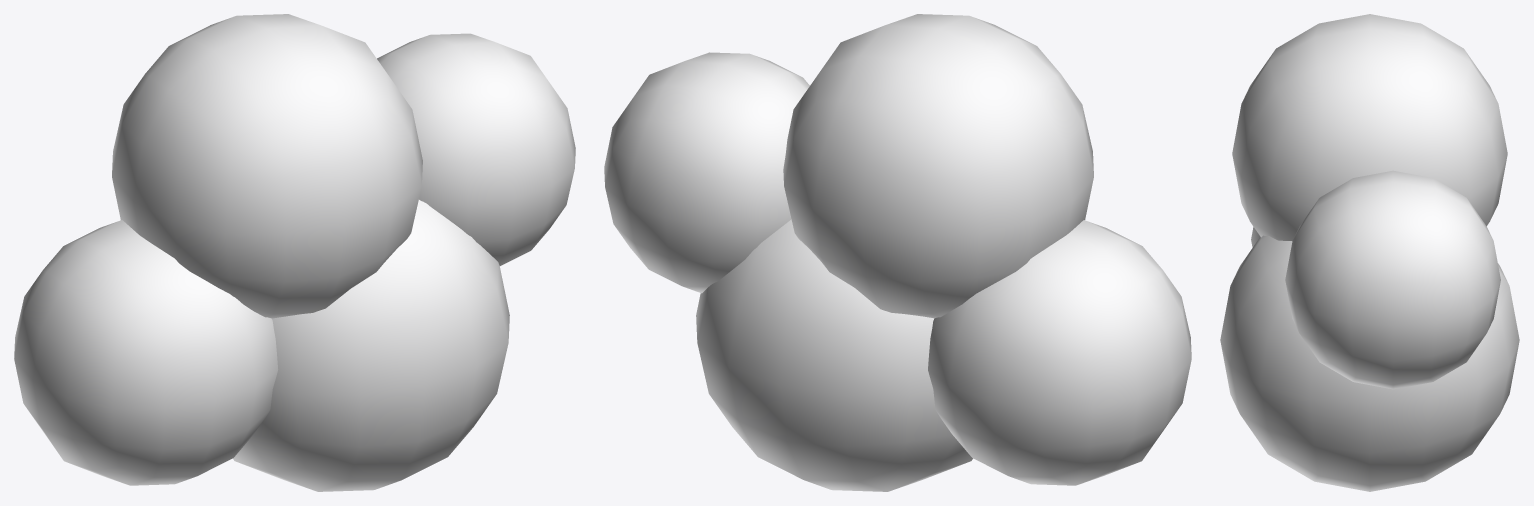
The model's file is Farm_8_Cloud_2.glb.
3 views of the same model, side by side, from view 1: azimuth 30°, elevation 25°; view 2: azimuth 150°, elevation 25°; view 3: azimuth 270°, elevation 25° (orthographic). The views are drawn at different scales.
Parts seen in each view (by area): view 1: Farm_8_Cloud_2; view 2: Farm_8_Cloud_2; view 3: Farm_8_Cloud_2.
Part boxes in pixels (box(x1,y1,x2,y2)): Farm_8_Cloud_2: box(14, 14, 575, 491); Farm_8_Cloud_2: box(604, 14, 1191, 491); Farm_8_Cloud_2: box(1220, 14, 1519, 491).
Size of the model in its own units: 2.43 by 2 by 1.31.
Materials: 1 (1 with a texture image).
